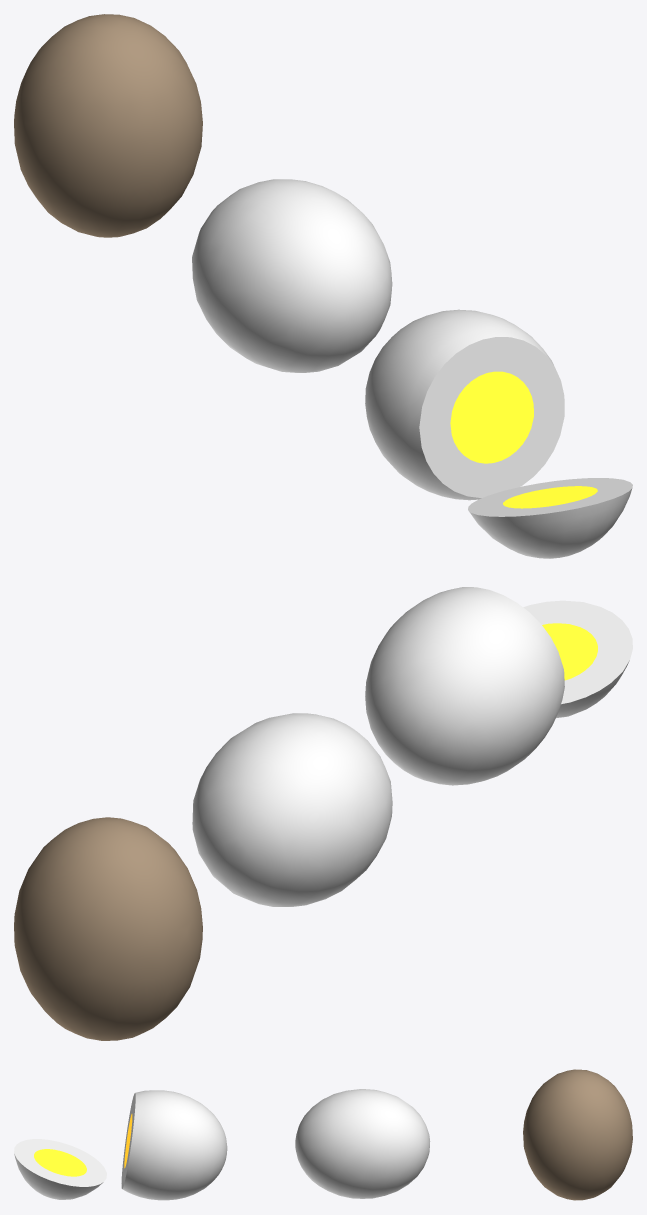
Rendered from eggs.glb.
3 views of the same model, one above another, from view 1: azimuth 30°, elevation 25°; view 2: azimuth 150°, elevation 25°; view 3: azimuth 270°, elevation 25° (orthographic). The views are drawn at different scales.
Visible parts, largest first — view 1: Sphere.002, Sphere.001, Sphere.003; view 2: Sphere.002, Sphere.001, Sphere.003; view 3: Sphere.002, Sphere.003, Sphere.001.
Boxes of the visible parts, bbox=[...] form: Sphere.002: bbox=[365, 309, 632, 558]; Sphere.001: bbox=[14, 14, 202, 237]; Sphere.003: bbox=[192, 179, 392, 372]; Sphere.002: bbox=[365, 587, 632, 785]; Sphere.001: bbox=[14, 817, 202, 1040]; Sphere.003: bbox=[192, 713, 392, 906]; Sphere.002: bbox=[14, 1090, 227, 1200]; Sphere.003: bbox=[295, 1089, 430, 1198]; Sphere.001: bbox=[523, 1069, 632, 1200].
Size of the model in its own units: 2.05 by 2.48 by 11.37.
Materials: 4 (4 with a texture image).
